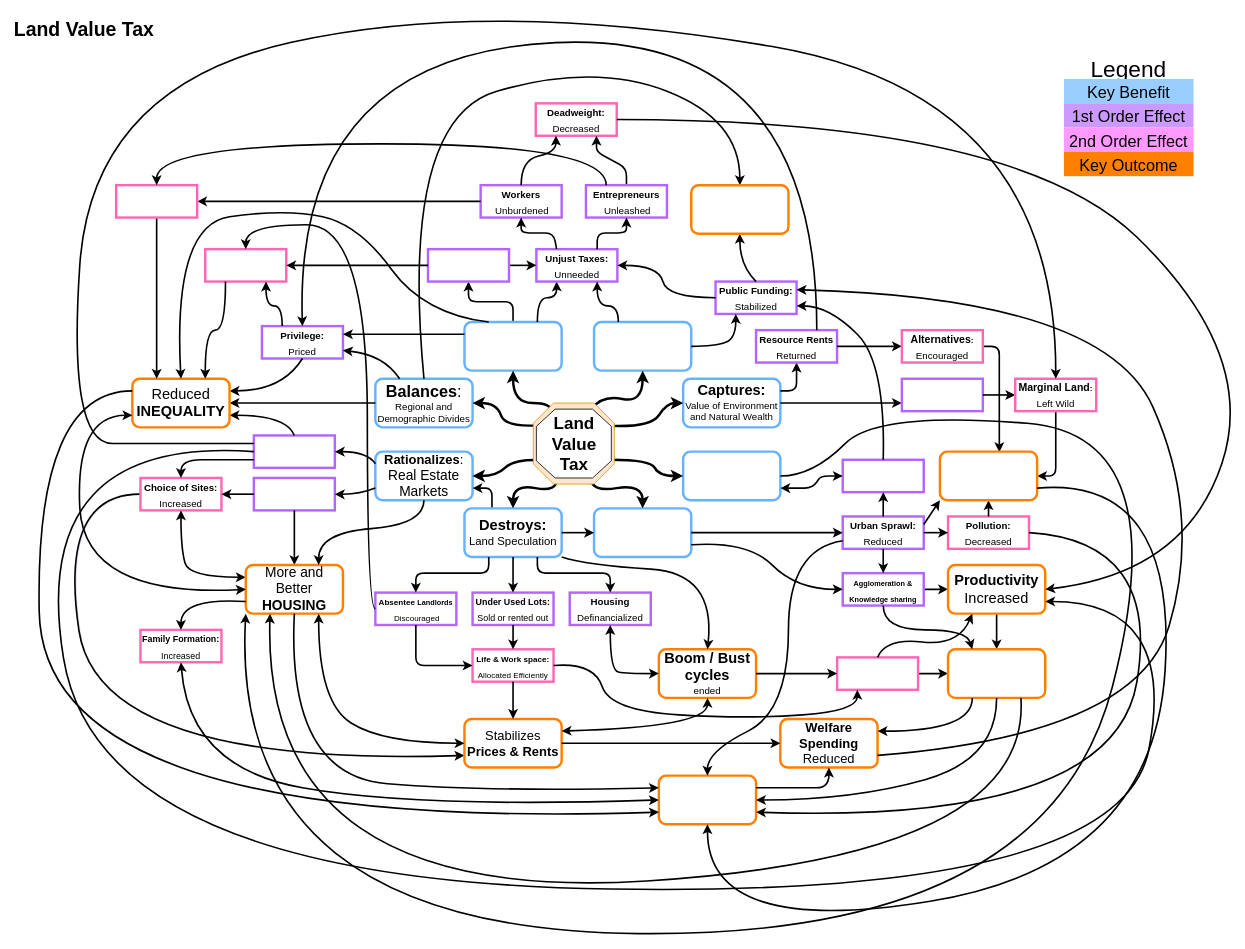
Image size: 1245x949. Some labels were removed from this diagram. The box of each missing label's shape, as (x1, y1, x2, y2) in pixels:
Better Physical & Mental Health: (657, 774, 757, 825)
Development: Risk lowered: (252, 476, 336, 511)
Employment Increased: (946, 648, 1046, 699)
Environment Restored / Conserved: (938, 450, 1038, 501)
Implements: Progressive taxation: (463, 320, 562, 371)
Infrastructure: Less costly: (841, 458, 925, 493)
Investment: Increased: (836, 656, 919, 691)
Large Holdings: Broken Up: (252, 434, 336, 469)
Leeches : Lanced: (204, 248, 287, 282)
Local Authority Empowered: (690, 184, 789, 235)
Optimizes : Use of Urban Space: (592, 507, 692, 558)
Producers : Paid: (115, 184, 198, 218)
Self Sustains: Infrastructure: (682, 450, 781, 501)
Simplifies: Public Power & Regulatory Needs: (592, 320, 692, 371)
Tax Evasion Eliminated: (426, 248, 510, 282)
Un-Development: Valued: (900, 377, 984, 412)
